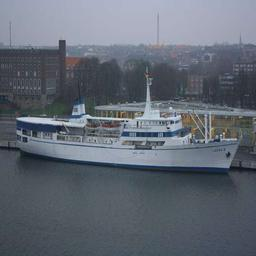Ship: (12, 86, 242, 175)
